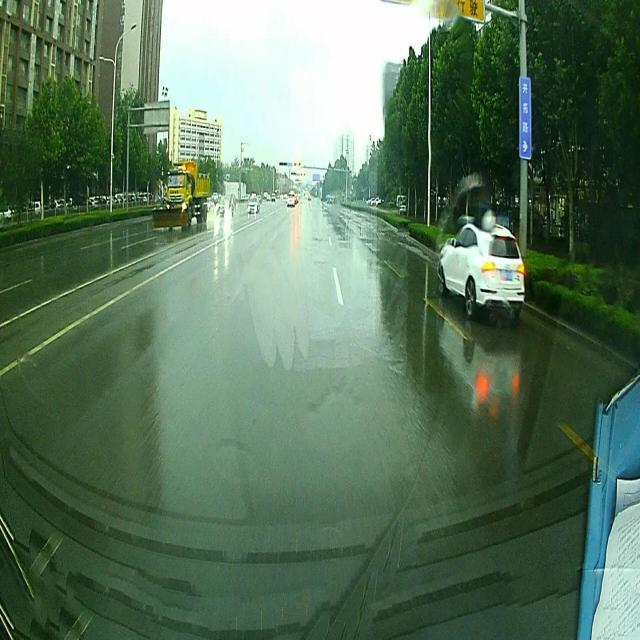car: (437, 222, 525, 321), (217, 196, 234, 216), (247, 196, 260, 214), (286, 193, 296, 207)
